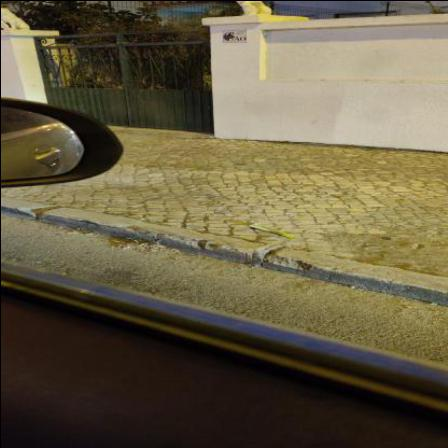Carton: (250, 224, 299, 238)
Cigarette: (403, 305, 417, 309), (112, 240, 121, 243), (68, 233, 78, 235), (85, 233, 93, 235)
